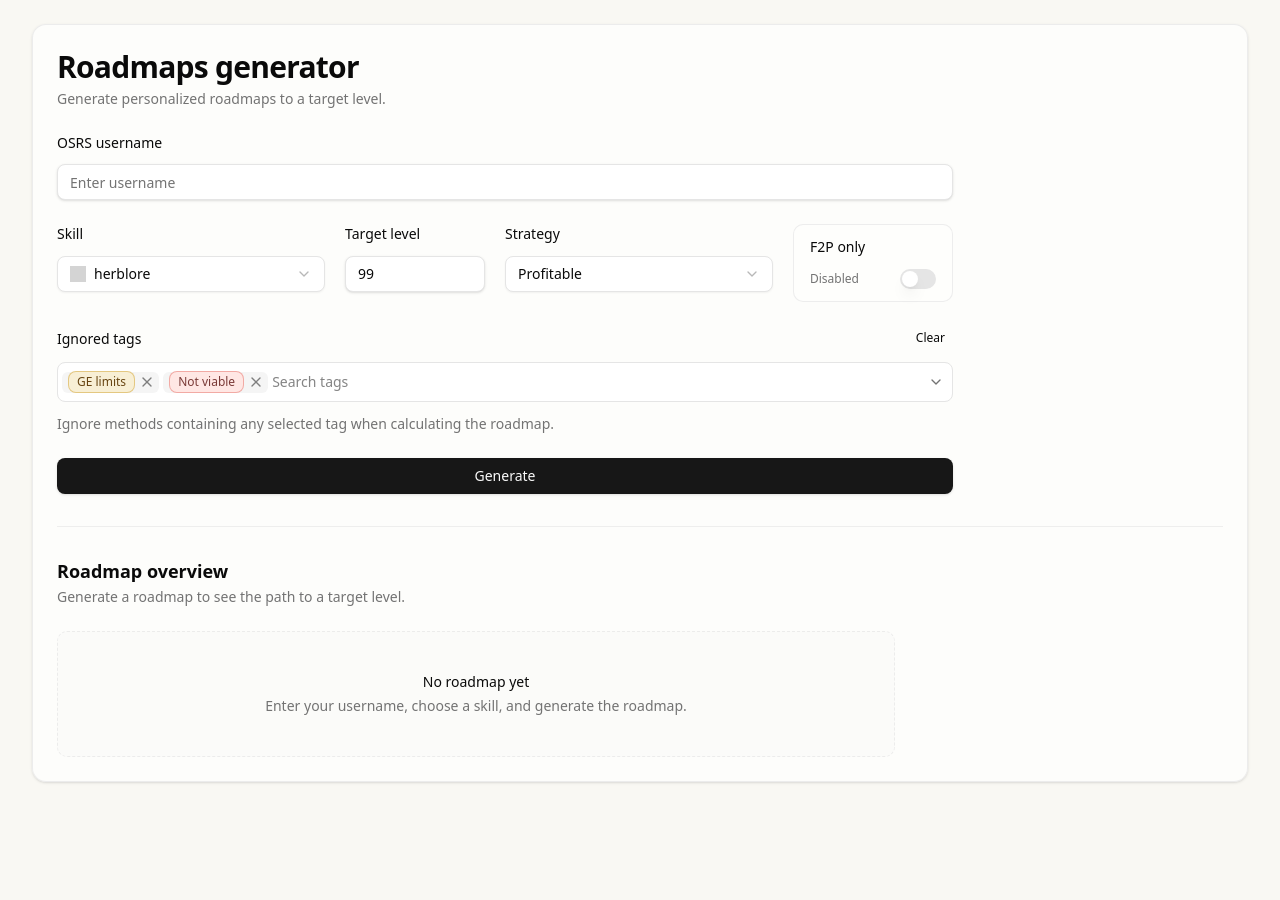
Test: RoadmapsPage › deduplicates roadmap requirements across steps
In the field labelled "OSRS username": (505, 182) [57,164,953,200], type "carmixtank"
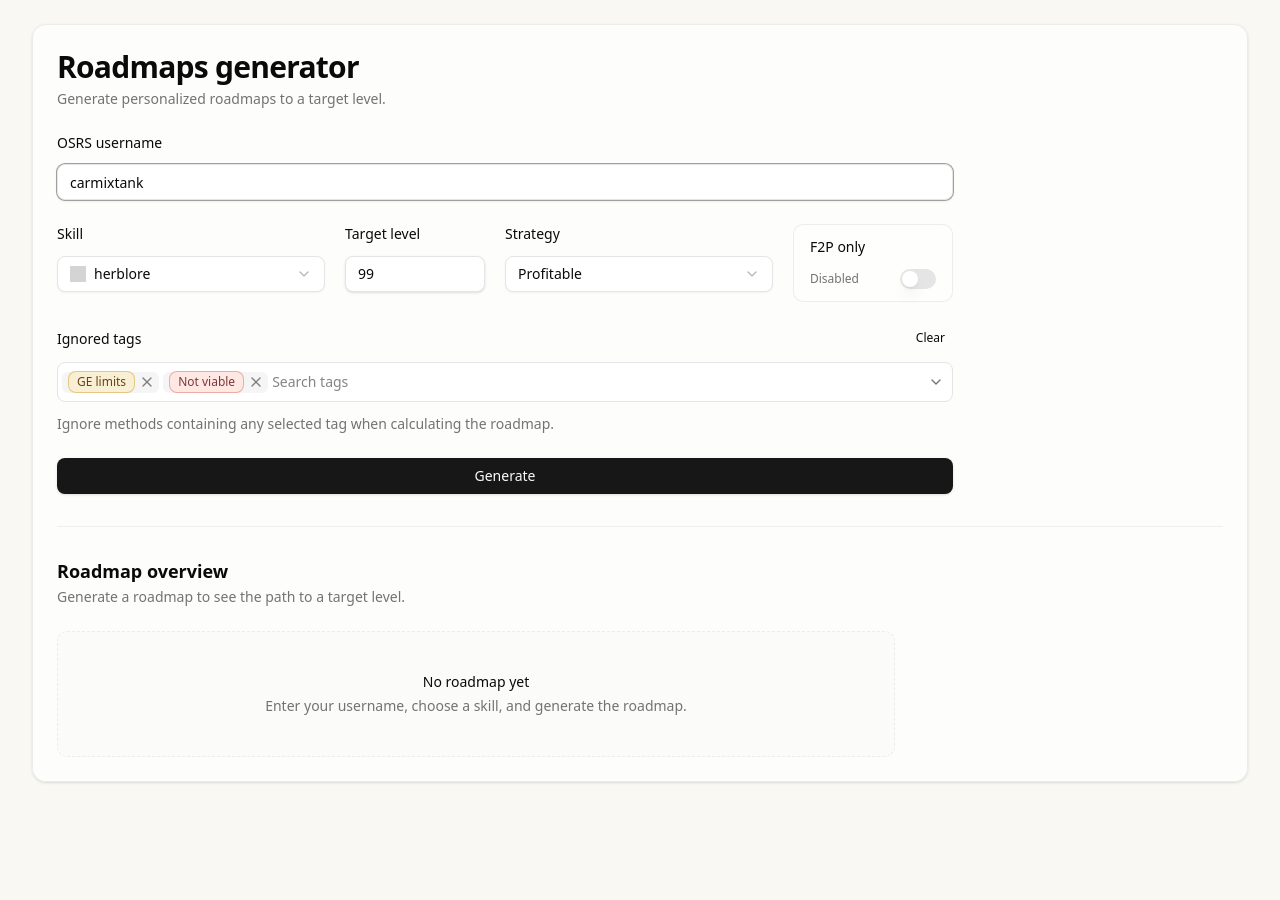
Click the button "Generate": (505, 476) [57,458,953,494]
(page scrolled)
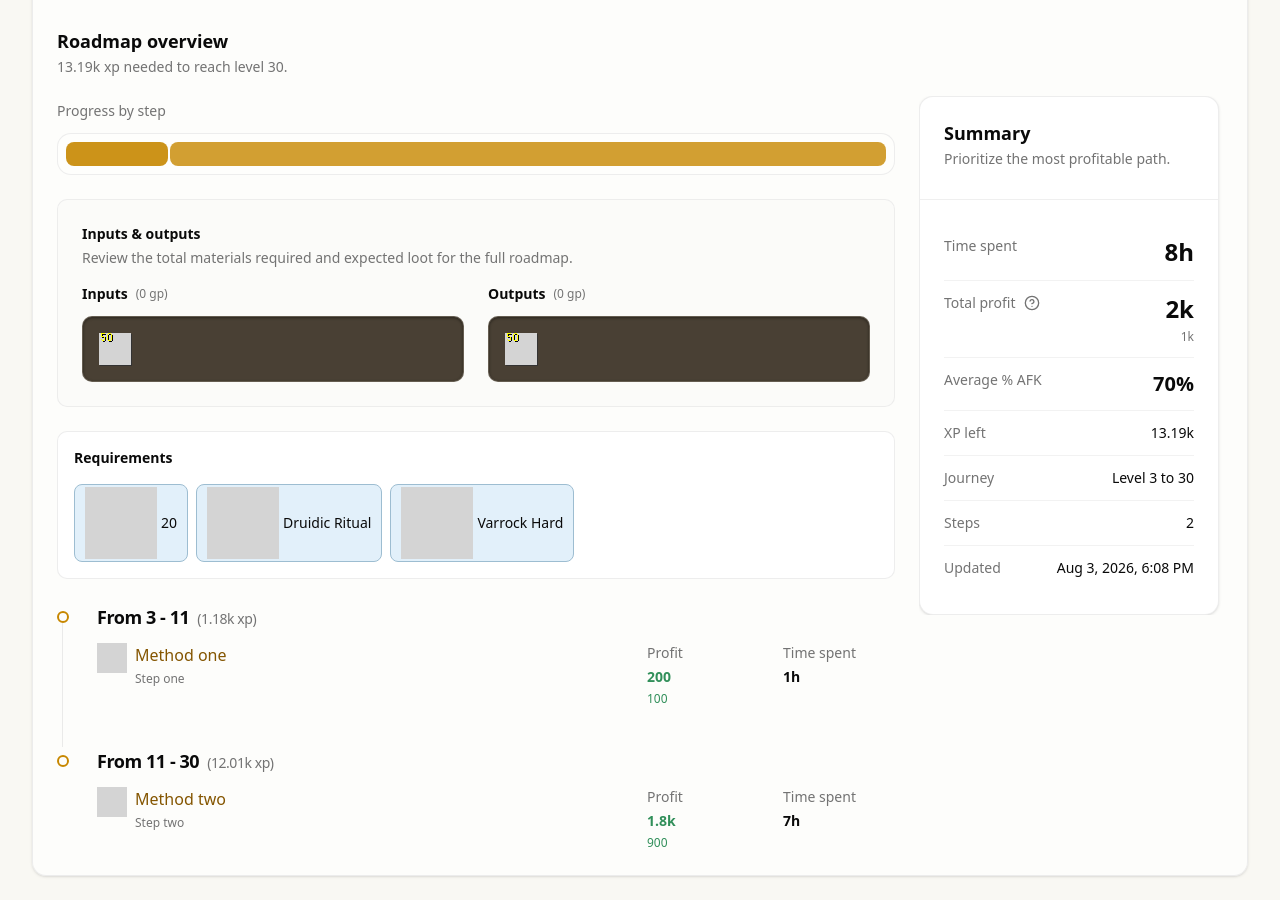
Result: the text "Druidic Ritual" is shown once at [196,484,382,562]
Result: the text "Varrock Hard" is shown at [390,484,574,562]
